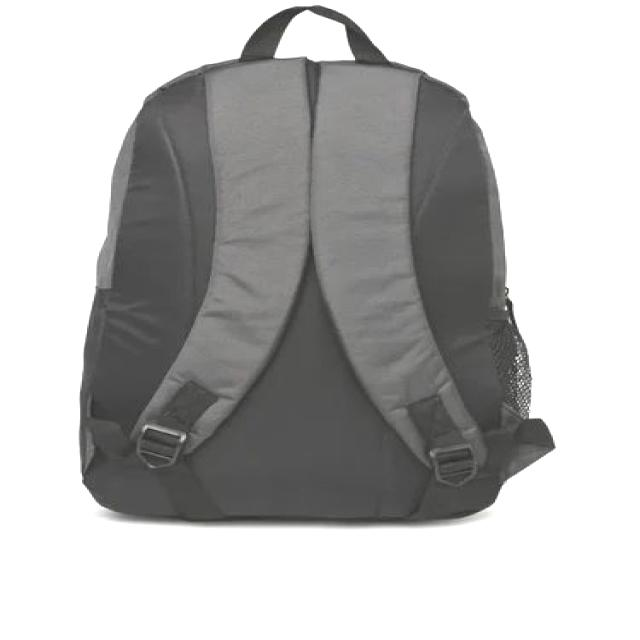backpack: (78, 5, 556, 523)
